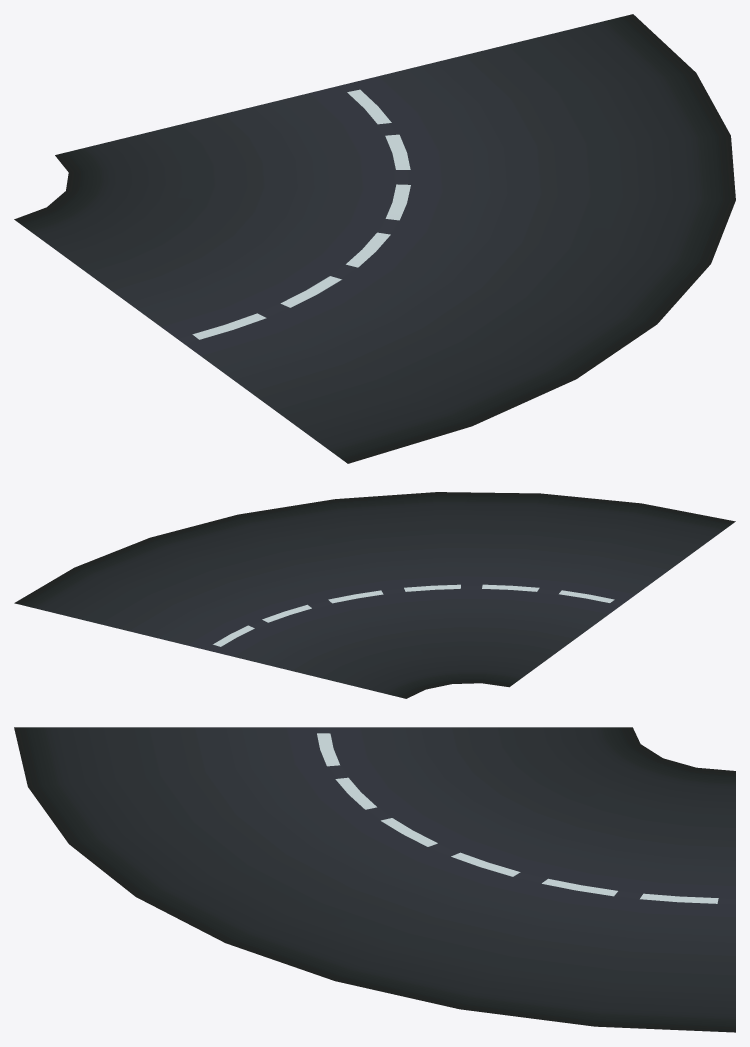
3 renders of one model, top to bottom at view 1: azimuth 30°, elevation 25°; view 2: azimuth 150°, elevation 25°; view 3: azimuth 270°, elevation 25°, orthographic. The views are drawn at different scales.
Parts seen in each view (by area): view 1: road_section_turn_tight.001; view 2: road_section_turn_tight.001; view 3: road_section_turn_tight.001.
Part boxes in pixels (x1,y1,x2,y2): road_section_turn_tight.001: (14, 14, 735, 463); road_section_turn_tight.001: (14, 492, 735, 698); road_section_turn_tight.001: (14, 727, 735, 1032).
Bounding box in the file's own units: 14 × 0.0158 × 14.
Materials: 1 (1 with a texture image).
